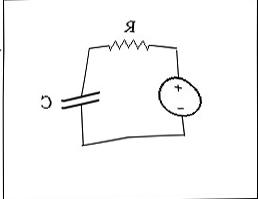Battery: (151, 70, 208, 123)
